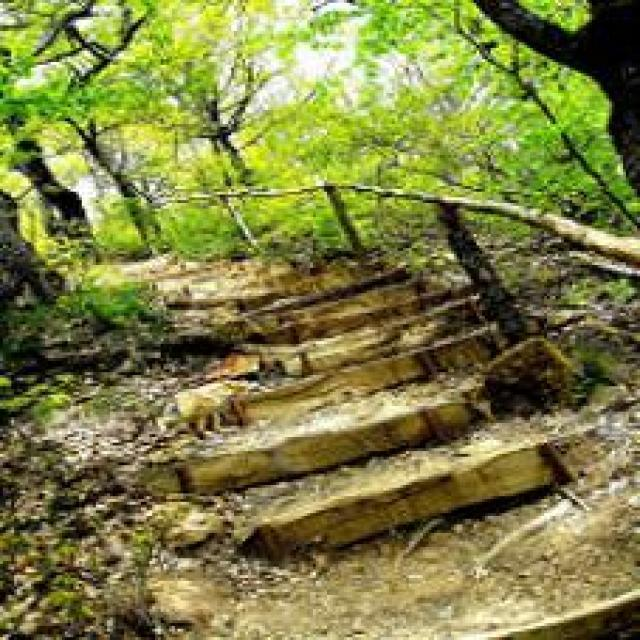stairs: (130, 245, 580, 561)
